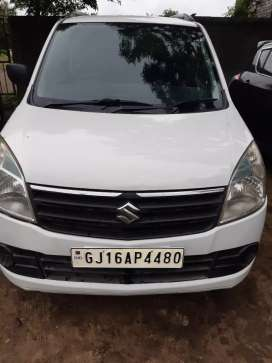license_plate: (70, 248, 187, 270)
